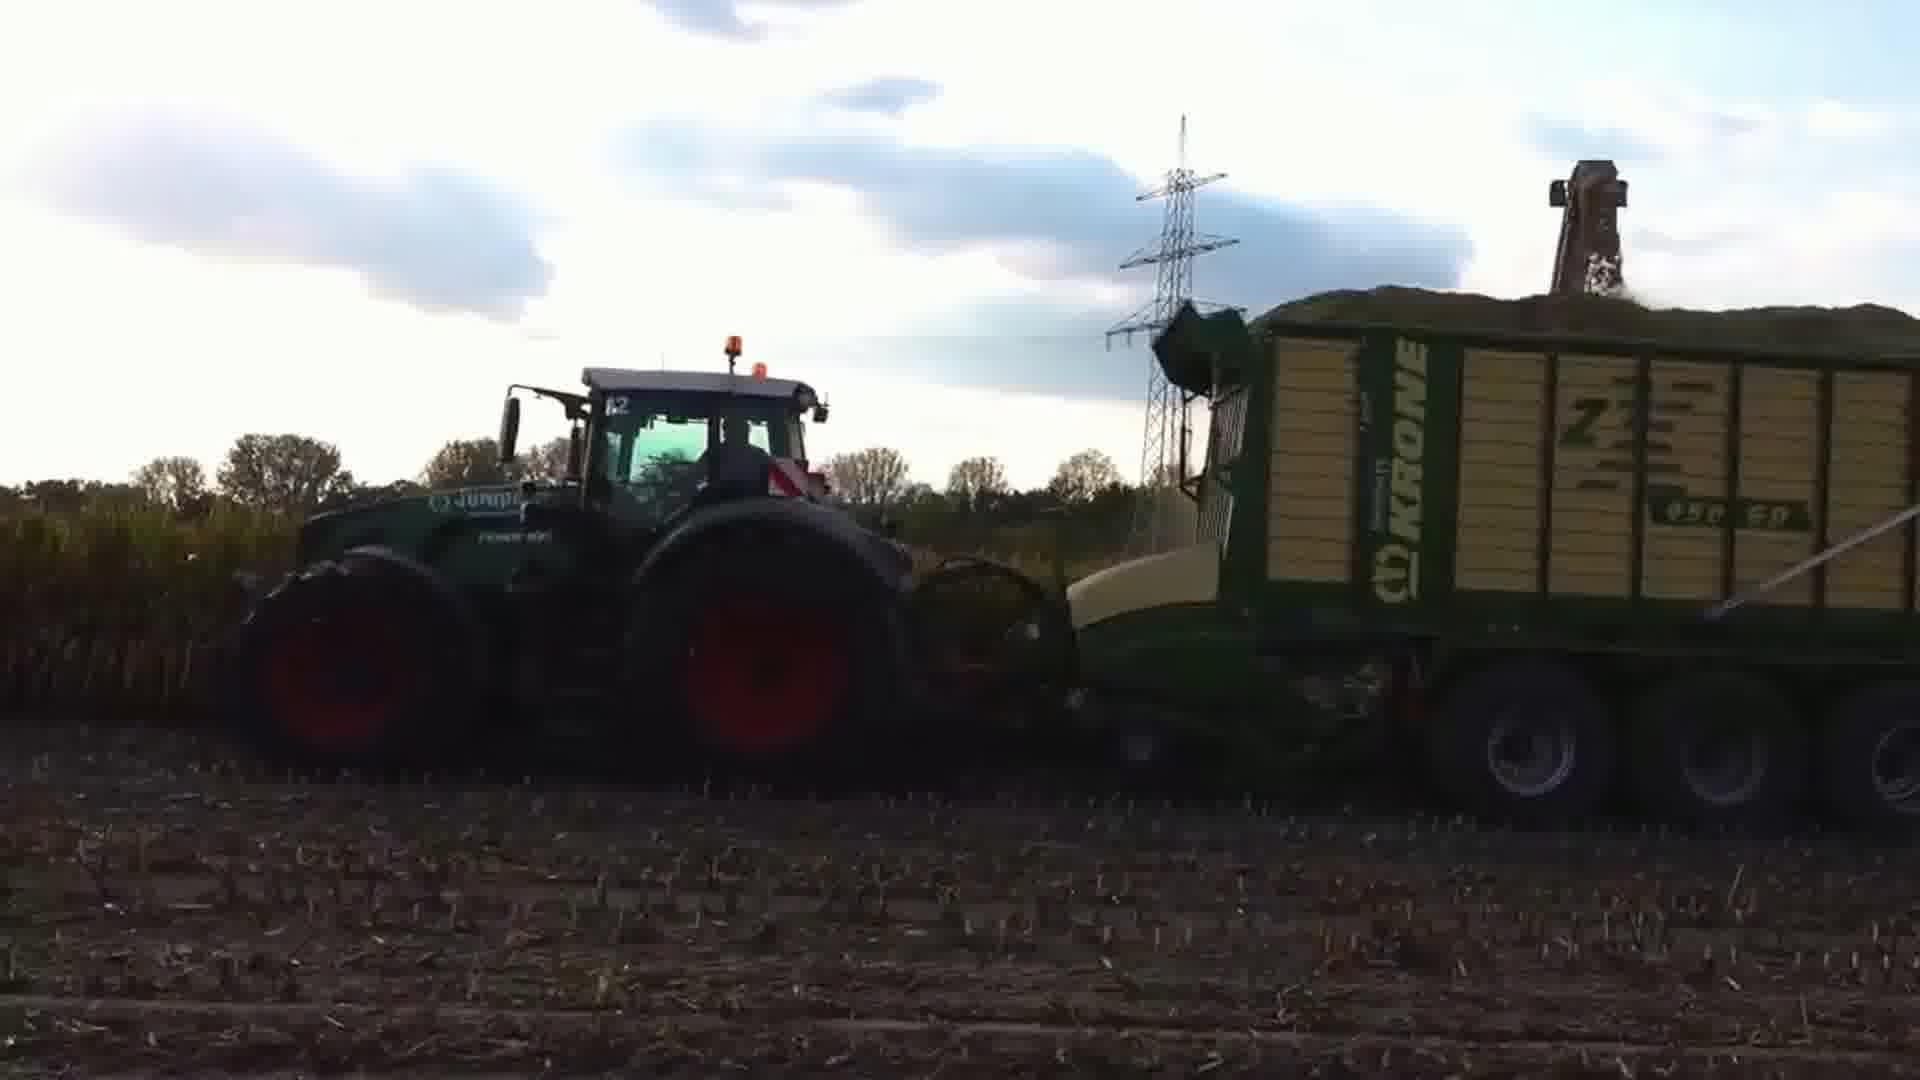tractor: (200, 323, 923, 800)
trailer: (994, 265, 1920, 865)
